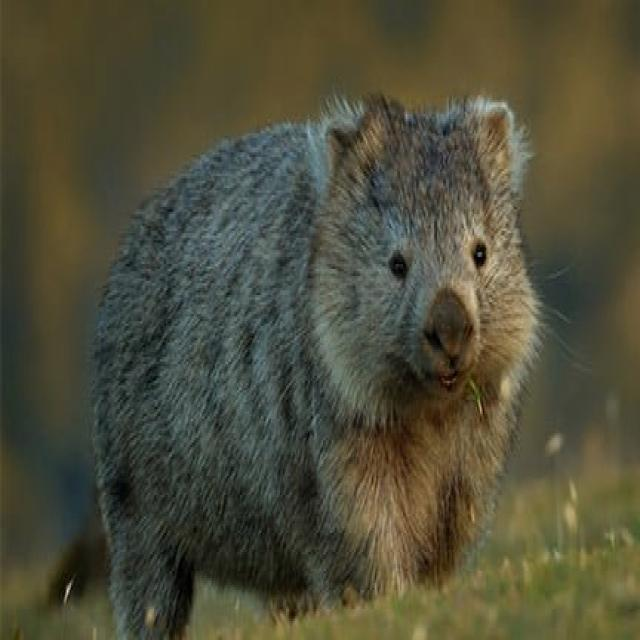wombats: (93, 95, 541, 638)
